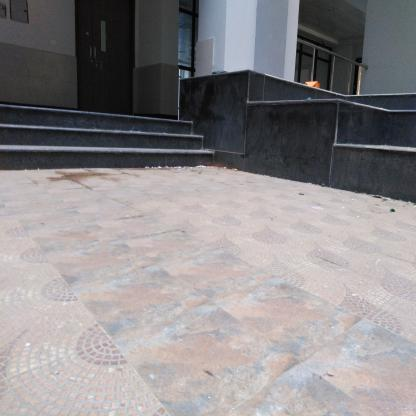stairs: (1, 119, 190, 178)
